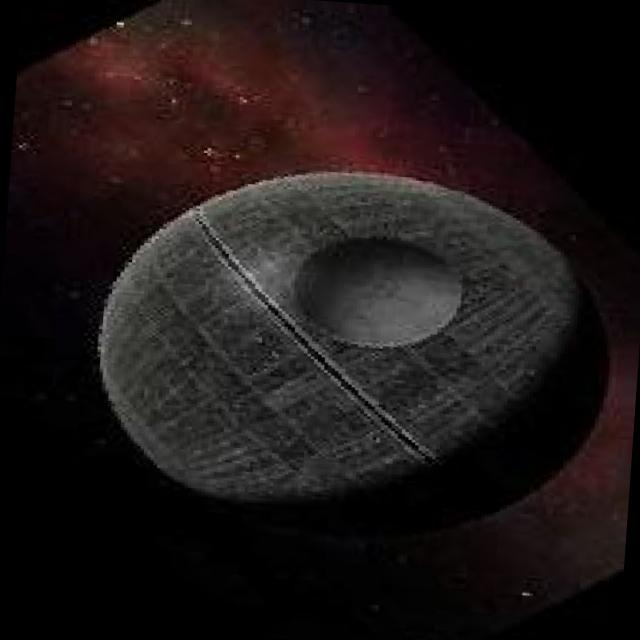Death Star: (68, 158, 626, 560)
